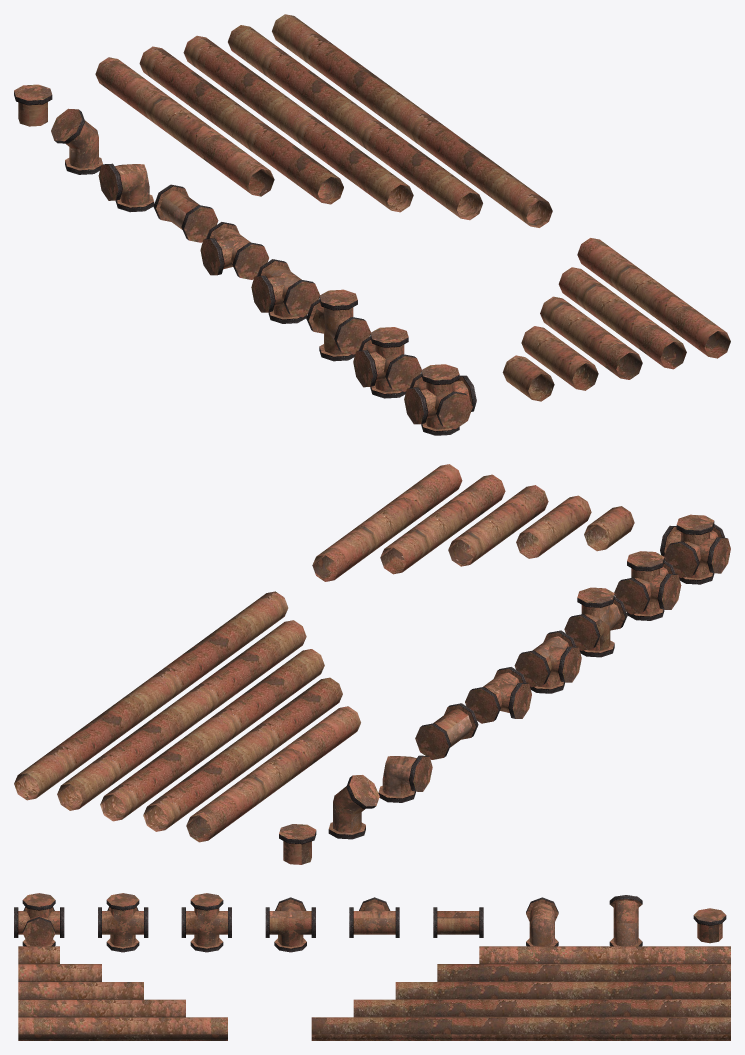
The model's file is Tubes.fbx.
3 views of the same model, one above another, from view 1: azimuth 30°, elevation 25°; view 2: azimuth 150°, elevation 25°; view 3: azimuth 270°, elevation 25° (orthographic). The views are drawn at different scales.
Visible parts, largest first — view 1: Tube10, Tube9, Tube8, Tube7, Tube6, Tube5, Tube4, Cross_Joint_extra, Cross_Joint_t, Tube3, Cross_Joint, T_plus_Joint (+7 smaller); view 2: Tube10, Tube9, Tube8, Tube7, Tube6, Tube5, Tube4, Cross_Joint_extra, Cross_Joint_t, Tube3, Cross_Joint, T_plus_Joint (+7 smaller); view 3: Tube10, Tube9, Tube8, Tube7, Tube5, Tube6, Tube4, Cross_Joint_t, Cross_Joint, Tube3, Cross_Joint_extra, T_plus_Joint (+7 smaller).
Part boxes in pixels (x1,y1,x2,y2): Tube10: [272, 14, 552, 227]; Tube9: [228, 25, 482, 220]; Tube8: [183, 35, 413, 212]; Tube7: [139, 46, 343, 204]; Tube6: [95, 57, 274, 196]; Tube5: [577, 238, 730, 358]; Tube4: [558, 267, 686, 369]; Cross_Joint_extra: [404, 364, 476, 435]; Cross_Joint_t: [353, 327, 421, 398]; Tube3: [540, 296, 642, 379]; Cross_Joint: [306, 289, 370, 361]; T_plus_Joint: [251, 259, 319, 323]; Tube10: [14, 591, 288, 800]; Tube9: [57, 620, 306, 810]; Tube8: [100, 649, 324, 821]; Tube7: [143, 677, 342, 831]; Tube6: [186, 706, 360, 842]; Tube5: [312, 464, 462, 581]; Tube4: [380, 474, 505, 574]; Cross_Joint_extra: [660, 514, 730, 584]; Cross_Joint_t: [614, 551, 681, 620]; Tube3: [448, 485, 548, 566]; Cross_Joint: [564, 587, 627, 657]; T_plus_Joint: [514, 630, 581, 693]; Tube10: [311, 1017, 730, 1040]; Tube9: [353, 999, 730, 1017]; Tube8: [395, 982, 730, 999]; Tube7: [437, 964, 730, 981]; Tube5: [18, 1017, 227, 1040]; Tube6: [479, 946, 730, 963]; Tube4: [18, 999, 185, 1017]; Cross_Joint_t: [98, 893, 148, 952]; Cross_Joint: [181, 893, 231, 952]; Tube3: [18, 982, 143, 999]; Cross_Joint_extra: [14, 893, 64, 946]; T_plus_Joint: [265, 897, 315, 952].
Size of the model in its own units: 697 by 127 by 1710.
